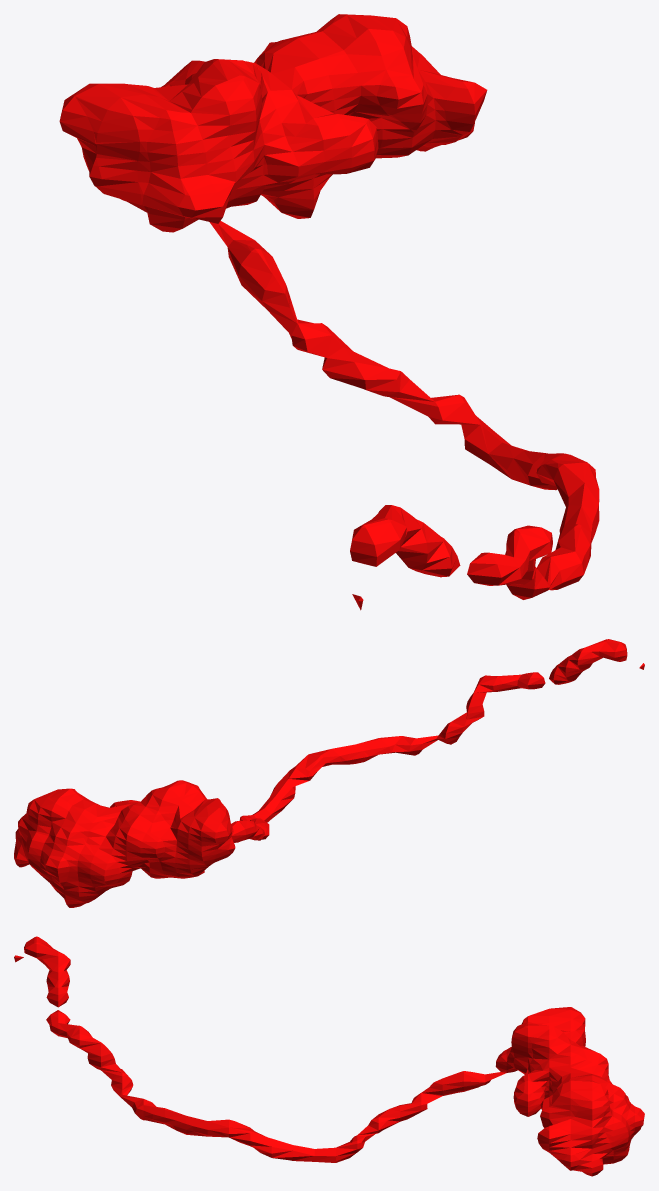
Rendered from uup_coarse.dae.
3 views of the same model, one above another, from view 1: azimuth 30°, elevation 25°; view 2: azimuth 150°, elevation 25°; view 3: azimuth 270°, elevation 25° (orthographic). The views are drawn at different scales.
Parts seen in each view (by area): view 1: uup; view 2: uup; view 3: uup.
Boxes of the visible parts, x1,y1,x2,y2 form: uup: (59, 14, 599, 610); uup: (14, 639, 644, 907); uup: (14, 936, 644, 1176).
Bounding box in the file's own units: 187 × 66.87 × 304.
